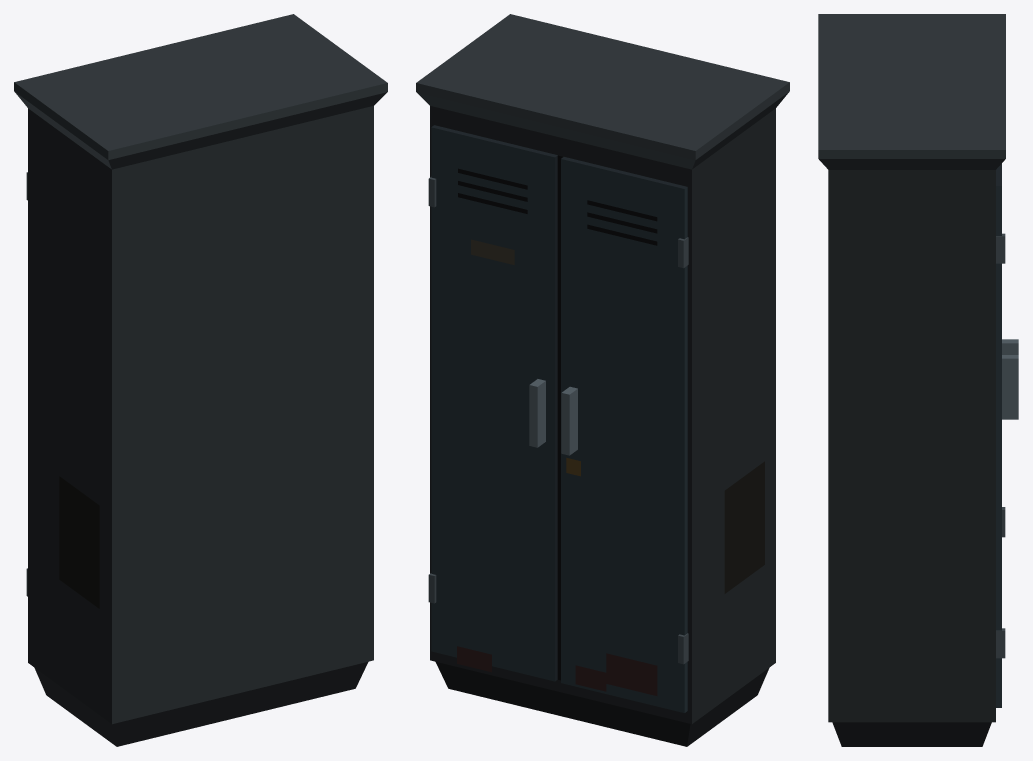
The model's file is lp_metal_locker.glb.
3 renders of one model, left to right at view 1: azimuth 30°, elevation 25°; view 2: azimuth 150°, elevation 25°; view 3: azimuth 270°, elevation 25°, orthographic.
Parts seen in each view (by area): view 1: lp_metal_locker; view 2: lp_metal_locker; view 3: lp_metal_locker.
Boxes of the visible parts, x1=… form: lp_metal_locker: x1=14, y1=14, x2=387, y2=746; lp_metal_locker: x1=416, y1=14, x2=789, y2=746; lp_metal_locker: x1=818, y1=14, x2=1018, y2=746.
Bounding box in the file's own units: 0.96 × 2 × 0.598.
1 material, 1 textured.
